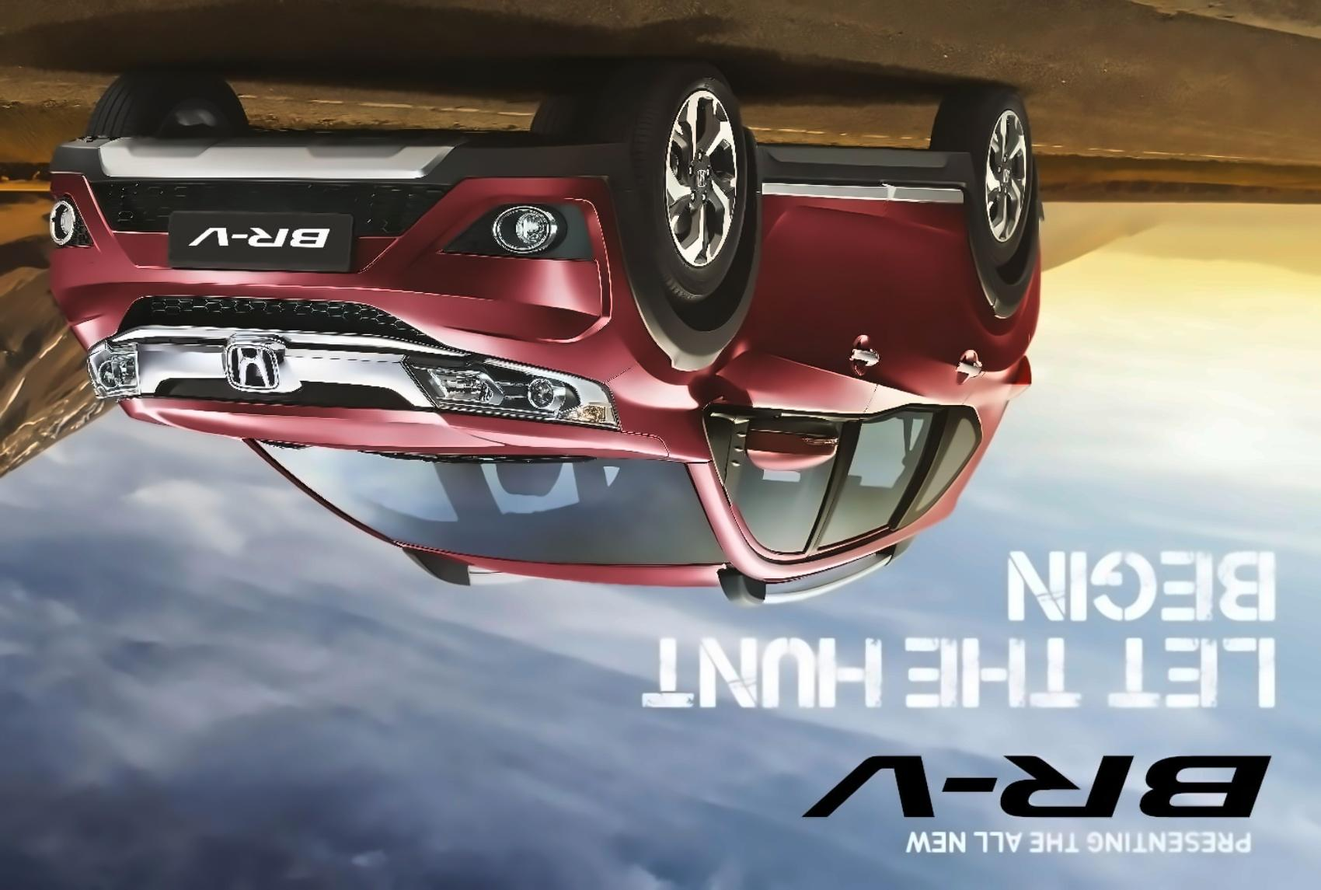Car hood: (114, 389, 672, 464)
Driver-s door - -F-R-: (732, 174, 885, 570)
Fender - -F-R-: (601, 176, 767, 467)
Fender - -R-R-: (987, 266, 1041, 382)
Front bumper: (35, 125, 664, 348)
Headlight - -L-: (74, 332, 147, 407)
Headlight - -R-: (398, 346, 628, 435)
Passenger-s door - -R-R-: (824, 175, 994, 571)
Rear light - -R-: (1001, 343, 1043, 412)
Side bumper - -R-: (741, 128, 984, 212)
Side mirror - -R-: (737, 406, 845, 478)
